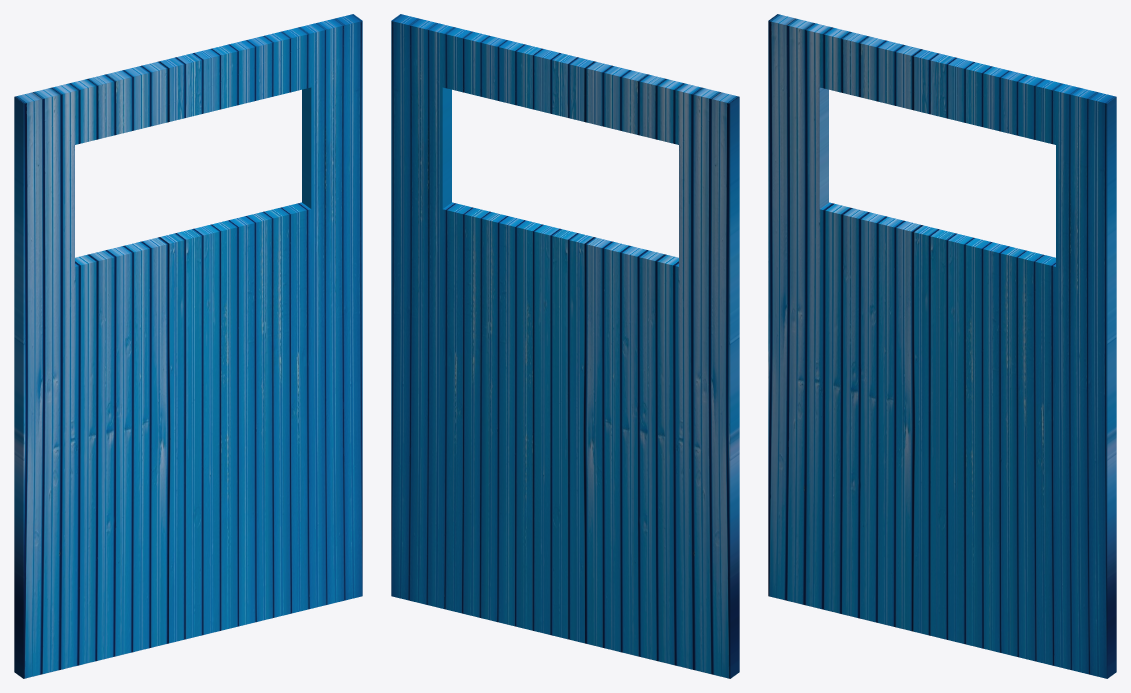
File: puerta1 1.FBX
3 renders of one model, left to right at view 1: azimuth 30°, elevation 25°; view 2: azimuth 150°, elevation 25°; view 3: azimuth 330°, elevation 25°, orthographic.
Visible parts, largest first — view 1: puerta; view 2: puerta; view 3: puerta.
Boxes of the visible parts, box(x1,y1,x2,y2) form: puerta: box(14, 14, 362, 678); puerta: box(391, 14, 739, 678); puerta: box(768, 14, 1116, 678).
Size of the model in its own units: 44.71 by 72.46 by 2.15.
